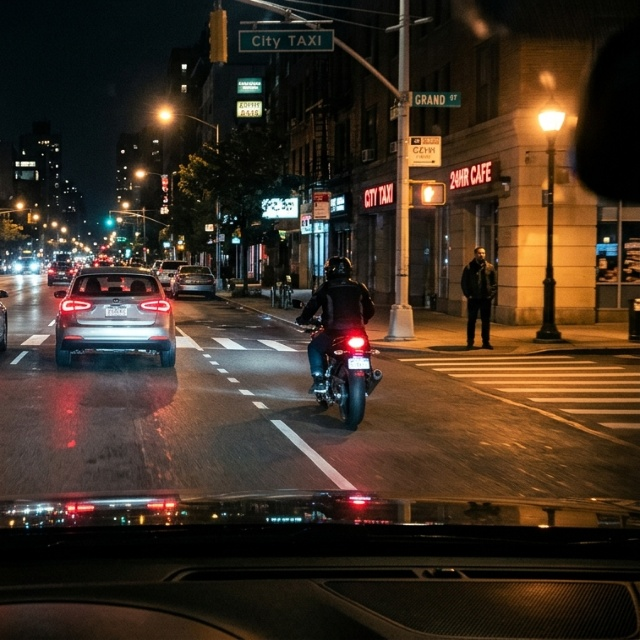car: (55, 298, 176, 368)
motorcycle: (307, 319, 381, 428)
person: (297, 254, 375, 393), (459, 250, 496, 349)
